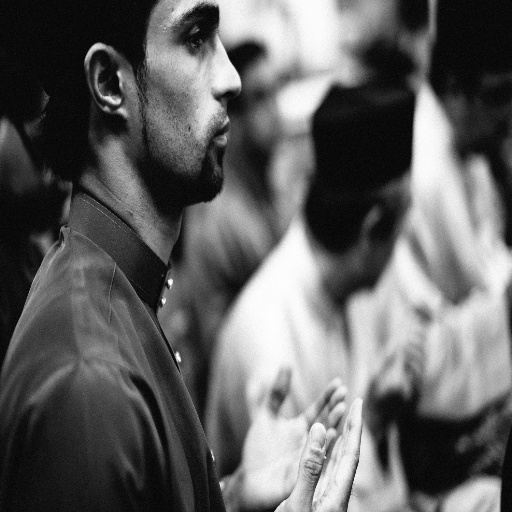hand: (240, 361, 347, 511), (273, 395, 363, 511), (372, 326, 423, 402)
